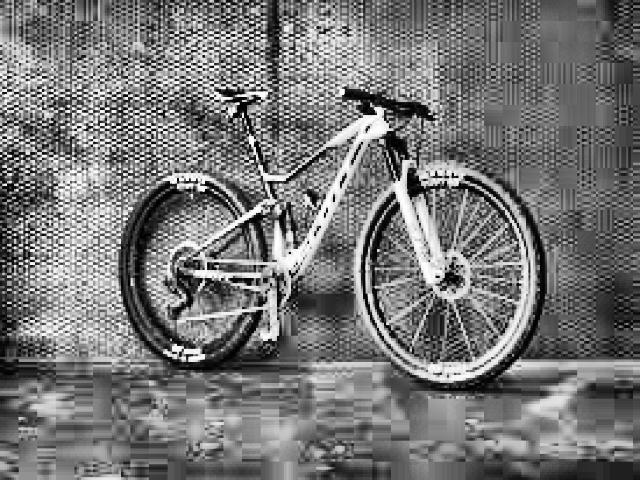cranks_set: (256, 260, 294, 327)
rear_derailleur: (164, 272, 194, 325)
saddle: (207, 83, 269, 108)
wheel: (351, 164, 548, 394), (116, 172, 269, 372)
